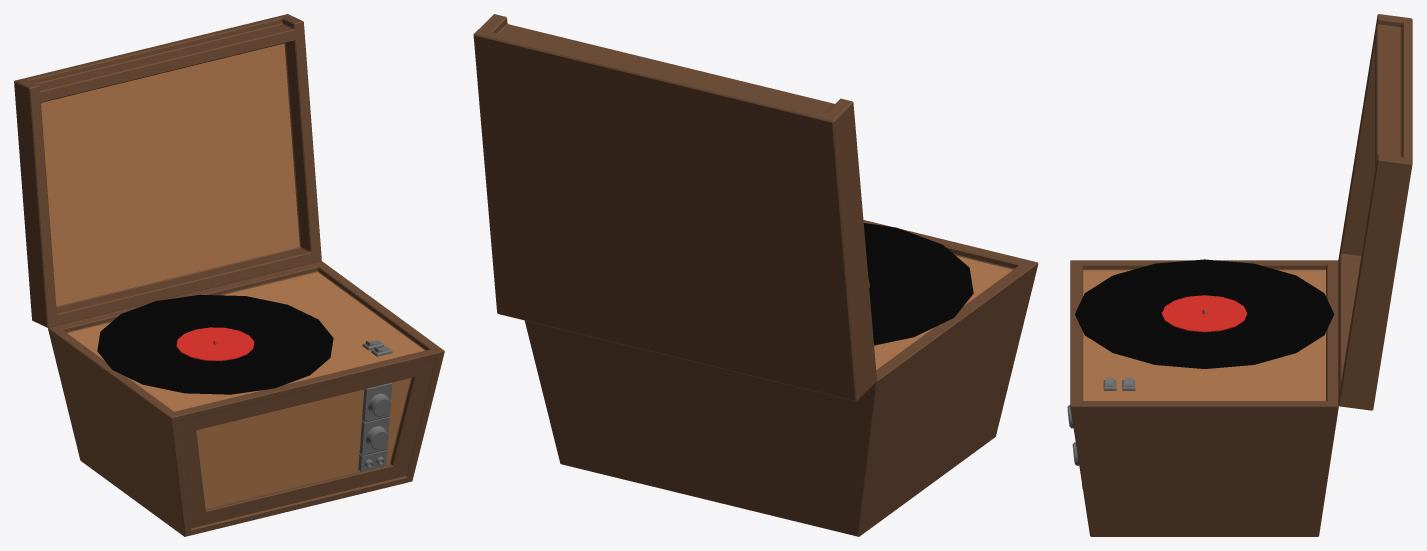
The model's file is Plattenspieler.fbx.
3 views of the same model, side by side, from view 1: azimuth 30°, elevation 25°; view 2: azimuth 150°, elevation 25°; view 3: azimuth 270°, elevation 25° (orthographic). The views are drawn at different scales.
Visible parts, largest first — view 1: PlattenSpieler; view 2: PlattenSpieler; view 3: PlattenSpieler.
Part boxes in pixels (x1,y1,x2,y2): PlattenSpieler: (14, 14, 444, 536); PlattenSpieler: (473, 14, 1038, 536); PlattenSpieler: (1067, 14, 1412, 536).
Bounding box in the file's own units: 0.4535 × 0.5649 × 0.453.
